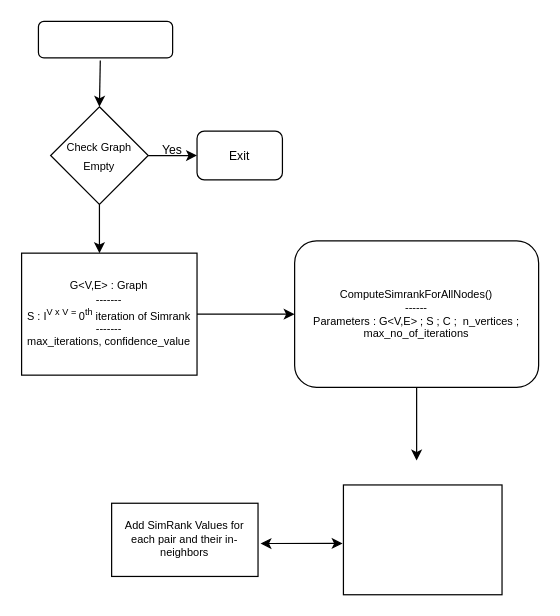
Image size: 560x616. Some labels were removed from this diagram. Here are the shapes that lost their labels. From the top down, the centre of each, then its label:
point (105, 39): Calculating SimRank
point (422, 539): Iteration:k ---- simrank(i, j) i - (all the vertices) j - (all the vertices)
